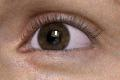eye: (39, 23, 68, 51)
